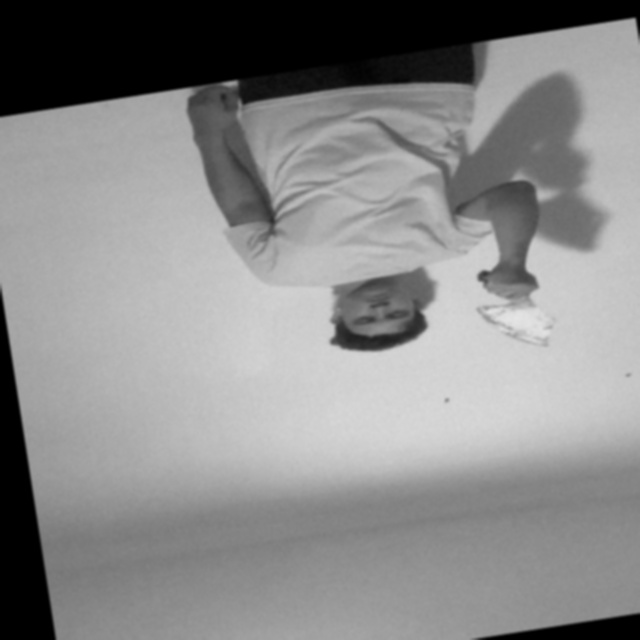Sharp-Object: (481, 295, 560, 357)
